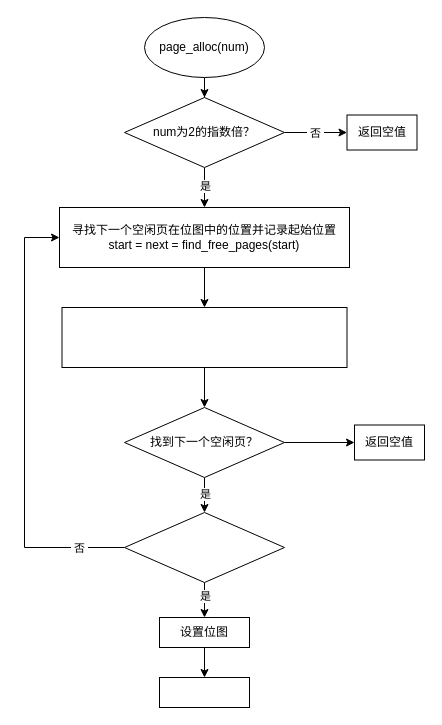
Some shapes in this 442 by 725 pixel diagram are drawn without their labels. The shapes that lost their labels are listed below. From the top down, each one's centre as x and y in pixels, then its label:
the point at 204,337: 寻找剩余空闲页 last = next next = find_free_pages(next + 1)
the point at 204,547: 空闲页连续？ next = last + 1?
the point at 204,692: 返回地址
